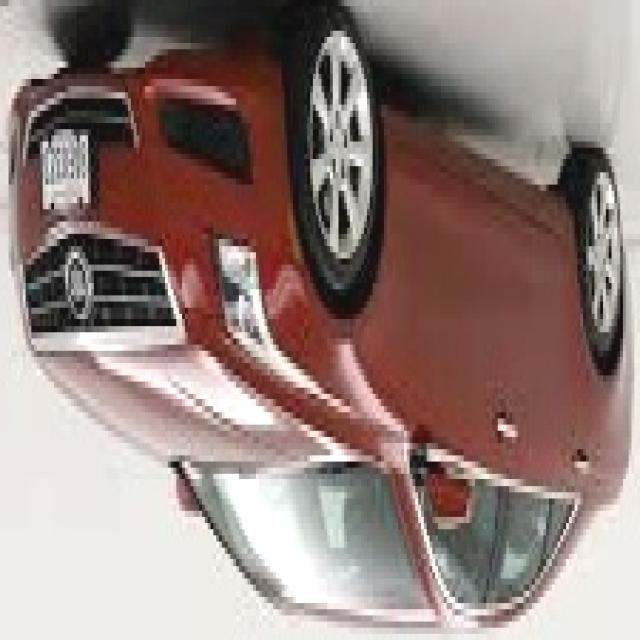maroon: (0, 40, 627, 632)
